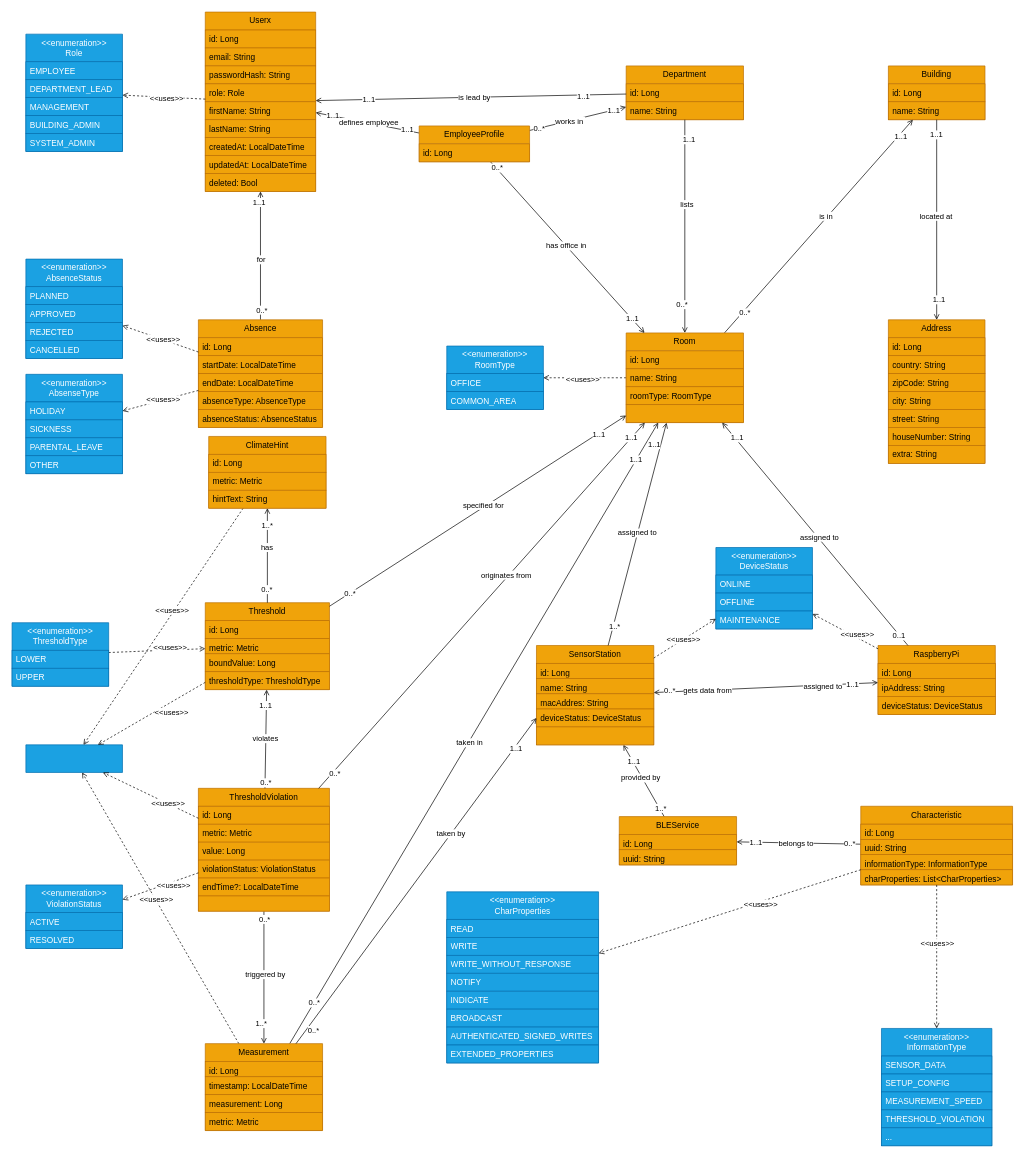
This 1025x1160 diagram has some shape labels left out. Each missing label, with the centre of its shape:
<<enumeration>> Metric: the point at 73,758
measurementsPerSec: Float: the point at 595,735
minOccupancy: int: the point at 684,413
startTime: LocalDateTime: the point at 263,903
